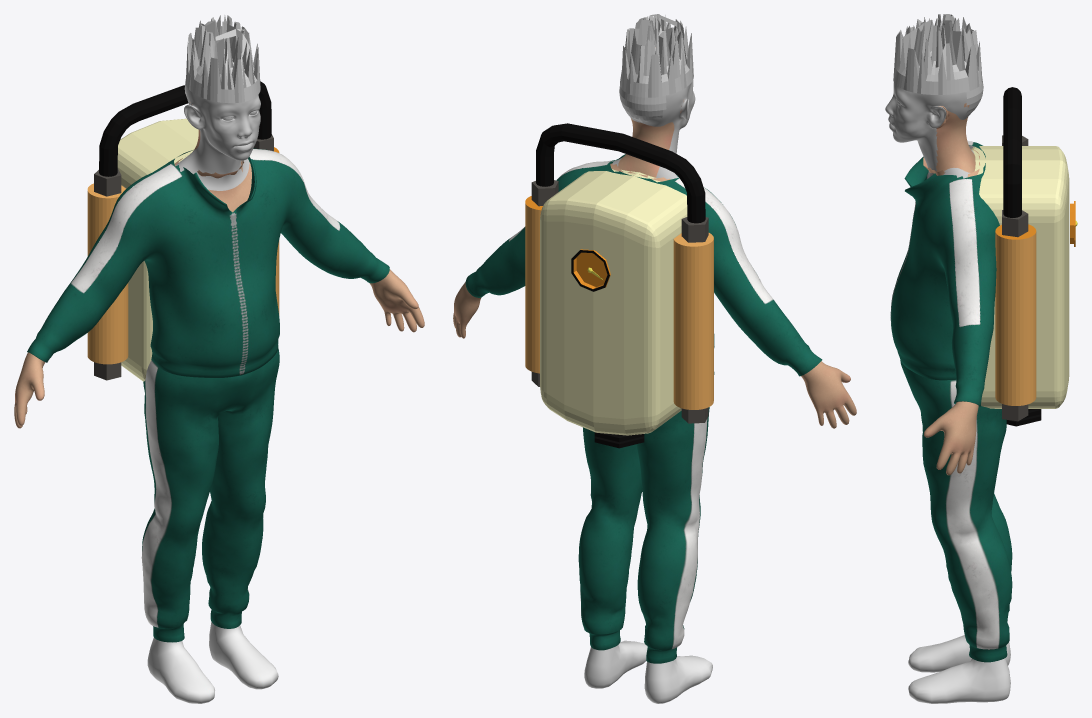
The model's file is Tanos With Jeckpack.fbx.
3 views of the same model, side by side, from view 1: azimuth 30°, elevation 25°; view 2: azimuth 150°, elevation 25°; view 3: azimuth 270°, elevation 25° (orthographic).
Visible parts, largest first — view 1: Char_Squid_Game_01, Cylinder.003, FBHead, Sphere; view 2: Cylinder.003, Char_Squid_Game_01, Sphere, FBHead, FBHead.001; view 3: Char_Squid_Game_01, Cylinder.003, Sphere, FBHead, FBHead.001.
Part boxes in pixels (x1=…): Char_Squid_Game_01: x1=14, y1=148, x2=424, y2=703; Cylinder.003: x1=87, y1=81, x2=279, y2=381; FBHead: x1=175, y1=83, x2=260, y2=190; Sphere: x1=184, y1=15, x2=260, y2=103; Cylinder.003: x1=525, y1=123, x2=713, y2=448; Char_Squid_Game_01: x1=453, y1=154, x2=856, y2=703; Sphere: x1=619, y1=14, x2=693, y2=122; FBHead: x1=612, y1=80, x2=695, y2=179; FBHead.001: x1=618, y1=47, x2=683, y2=177; Char_Squid_Game_01: x1=890, y1=141, x2=1012, y2=703; Cylinder.003: x1=971, y1=87, x2=1077, y2=426; Sphere: x1=893, y1=14, x2=983, y2=115; FBHead: x1=885, y1=83, x2=974, y2=178; FBHead.001: x1=936, y1=103, x2=975, y2=175.
Size of the model in its own units: 168 by 264 by 68.97.
